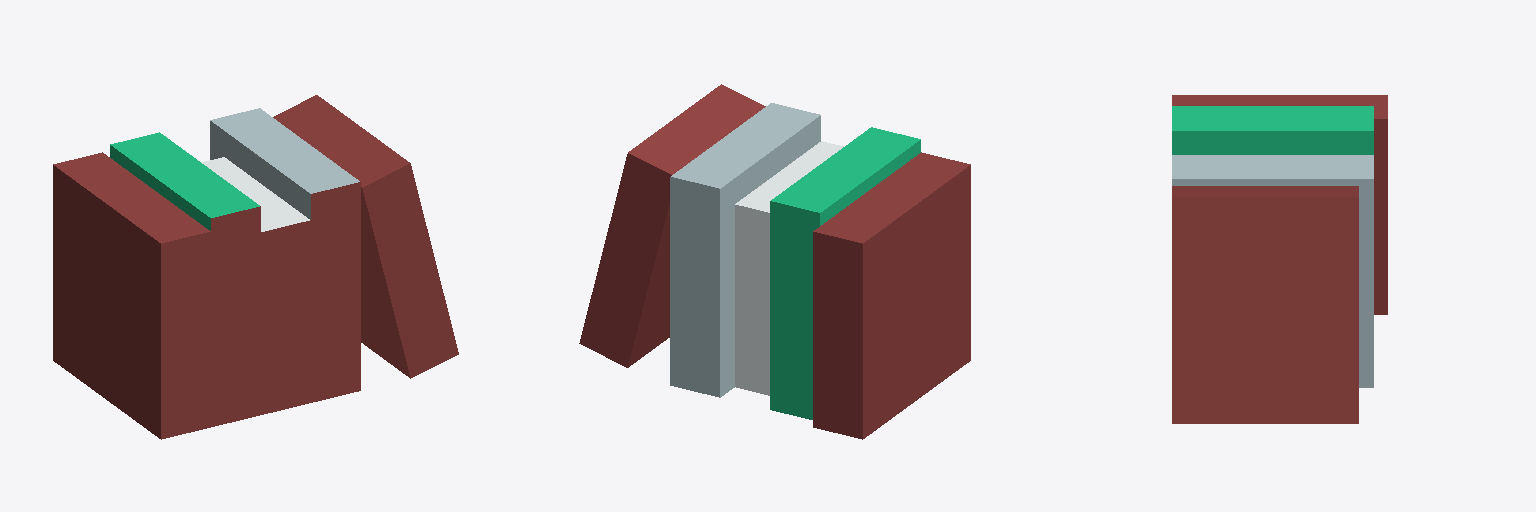
File: books.obj
3 renders of one model, left to right at view 1: azimuth 30°, elevation 25°; view 2: azimuth 150°, elevation 25°; view 3: azimuth 270°, elevation 25°, orthographic.
Parts seen in each view (by area): view 1: books; view 2: books; view 3: books.
Boxes of the visible parts, box(x1,y1,x2,y2) form: books: box(53, 95, 458, 439); books: box(579, 84, 970, 439); books: box(1172, 95, 1387, 423).
Size of the model in its own units: 0.1504 by 0.1039 by 0.0945.